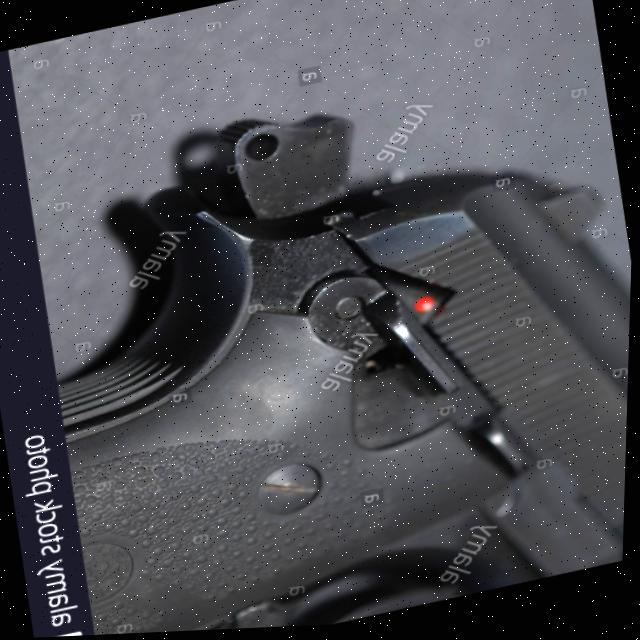pistol: (15, 46, 638, 639)
